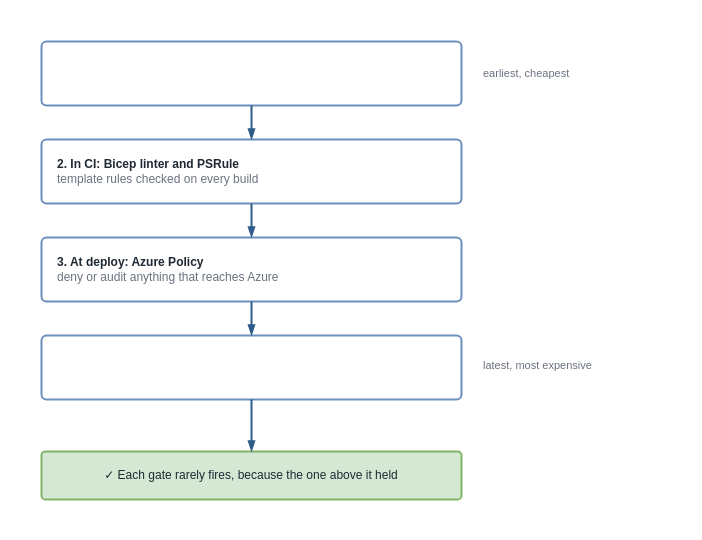
The diagram is 702 pixels wide and 540 high, and some of its shapes have lost their labels. Here are the shapes that lost their labels. From the top down, the box of each, then its label:
(40, 40, 462, 106): 1. In the editor: the Copilot Skill the insecure default is never typed
(40, 334, 462, 400): 4. After deploy: Resource Graph queries find what slipped through, weekly
